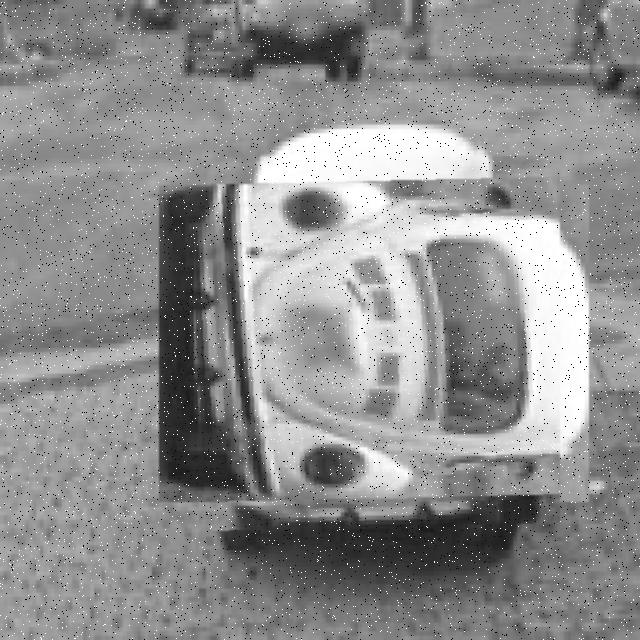car: (188, 157, 561, 532)
